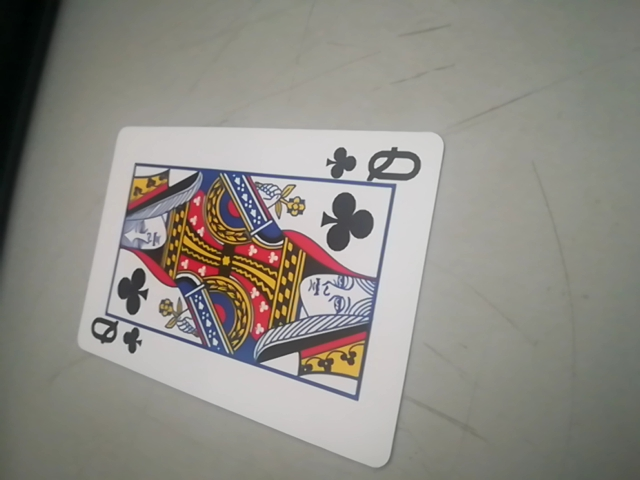mh q: (77, 128, 445, 474)
